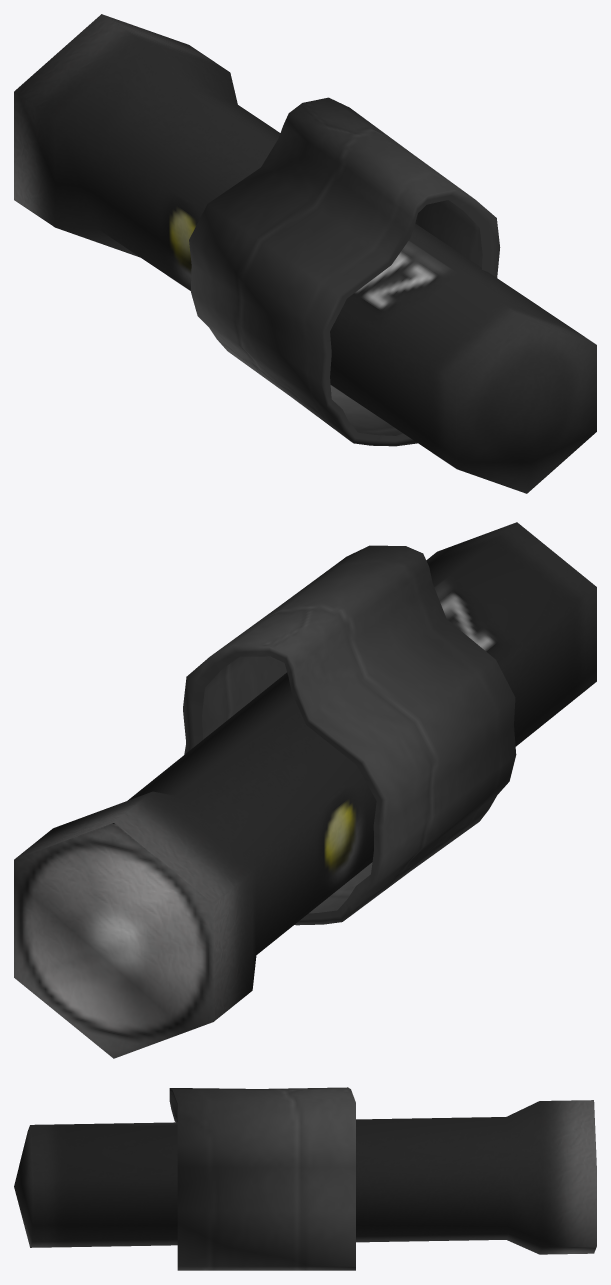
Rendered from TLOG_WeaponFlashlight_ground.fbx.
The picture shows the model from 3 angles, top to bottom: view 1: azimuth 30°, elevation 25°; view 2: azimuth 150°, elevation 25°; view 3: azimuth 270°, elevation 25°; orthographic projection. The views are drawn at different scales.
Visible parts, largest first — view 1: FlashlightGround; view 2: FlashlightGround; view 3: FlashlightGround.
Boxes of the visible parts, left/top/right/bottom form: FlashlightGround: left=14, top=14, right=596, bottom=493; FlashlightGround: left=14, top=522, right=596, bottom=1058; FlashlightGround: left=14, top=1087, right=596, bottom=1270.
Size of the model in its own units: 0.0383 by 0.0468 by 0.1389.
